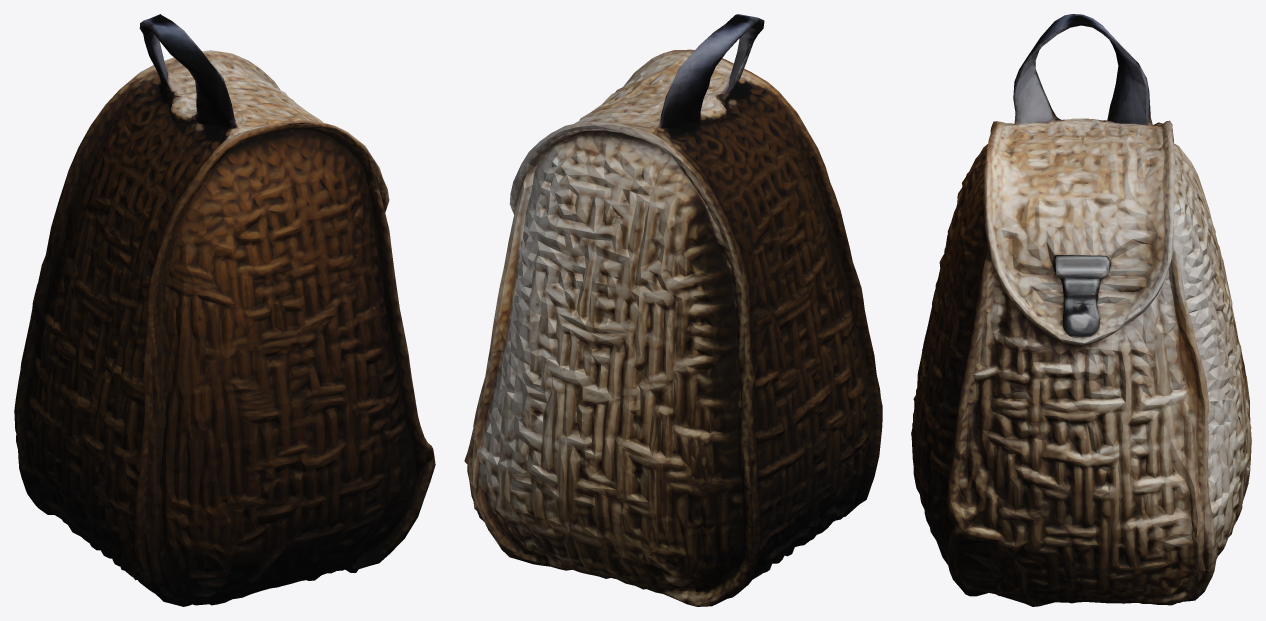
The model's file is woven-hemp-backpack-futuristic.jpeg.glb.
3 views of the same model, side by side, from view 1: azimuth 30°, elevation 25°; view 2: azimuth 150°, elevation 25°; view 3: azimuth 270°, elevation 25° (orthographic). The views are drawn at different scales.
Visible parts, largest first — view 1: world; view 2: world; view 3: world.
Boxes of the visible parts, x1=… form: world: x1=14, y1=14, x2=435, y2=606; world: x1=464, y1=14, x2=882, y2=606; world: x1=911, y1=14, x2=1251, y2=606.
Bounding box in the file's own units: 0.5841 × 0.9983 × 0.6046.
1 material, 1 textured.
